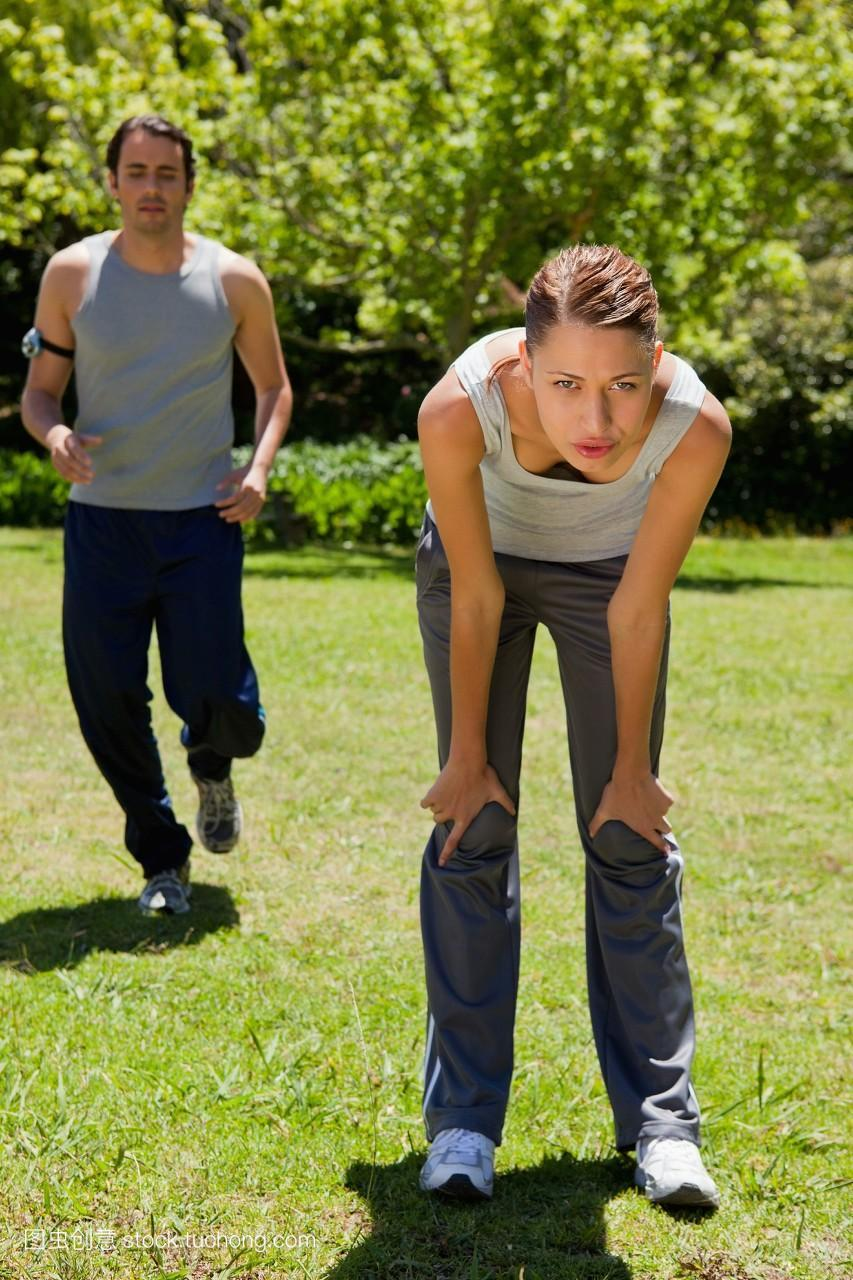bending: (400, 249, 771, 1223)
up: (29, 114, 301, 923)
